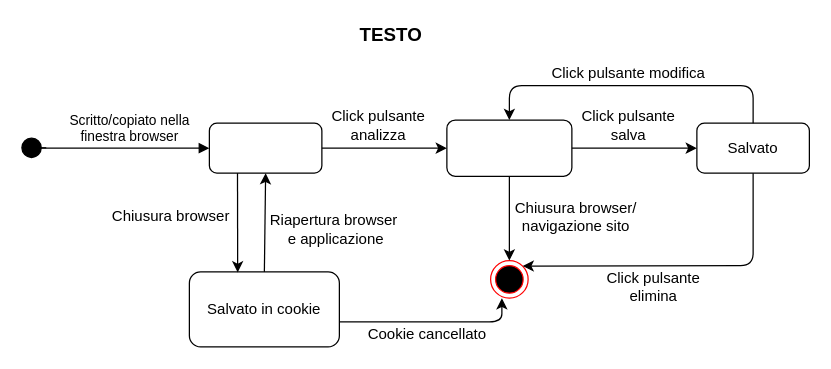
Image size: 831x369. Some labels were removed from this diagram. Each missing label, with the centre of its shape:
Analizzato: (x=509, y=147)
Inserito: (x=265, y=147)
